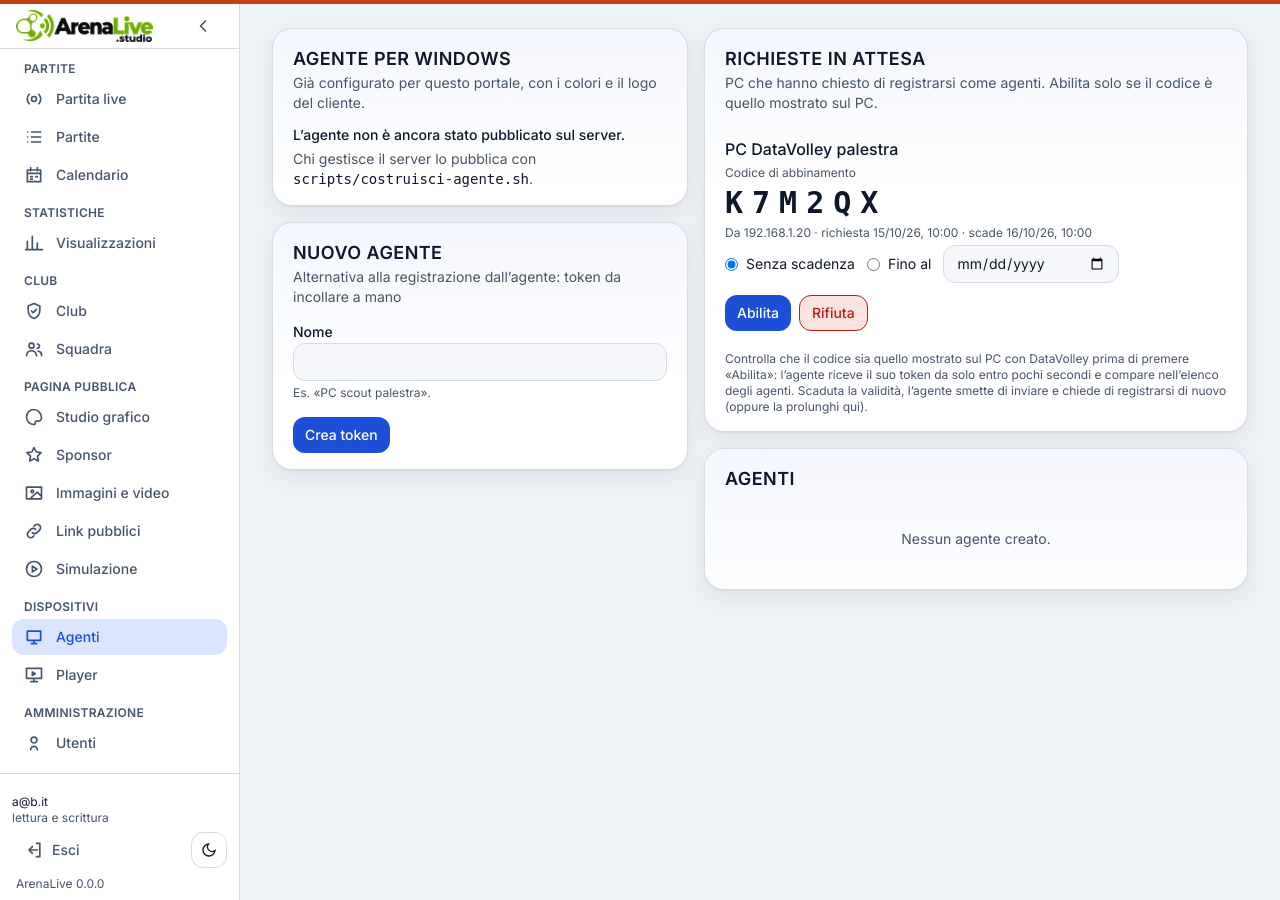
pending agent registrations › shows an error when the request is no longer pending
This screenshot has width=1280, height=900.
Click the button "Abilita".
click(758, 313)  # box [725,295,791,331]
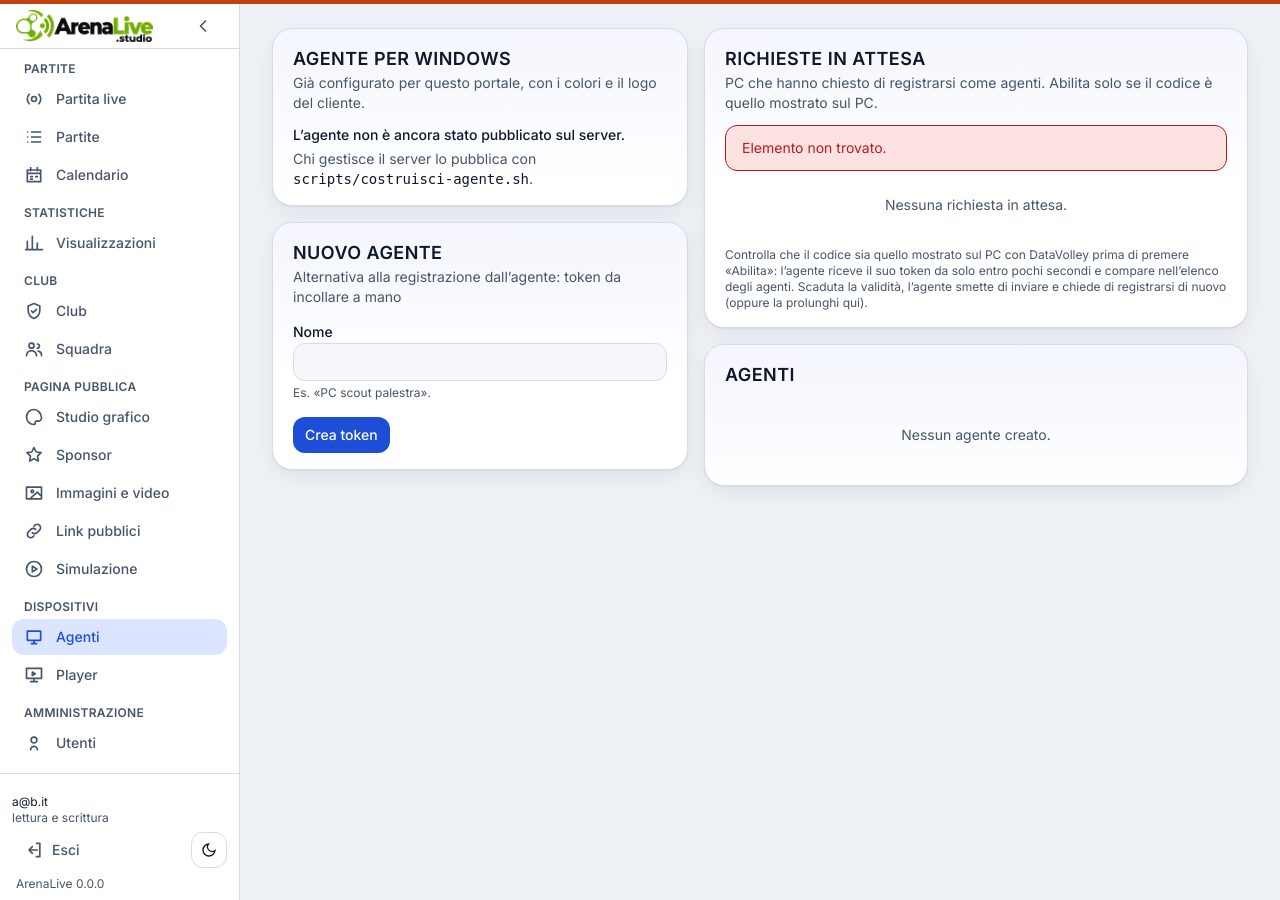
Now the message shows "non trovato", box [742,139,887,156]
